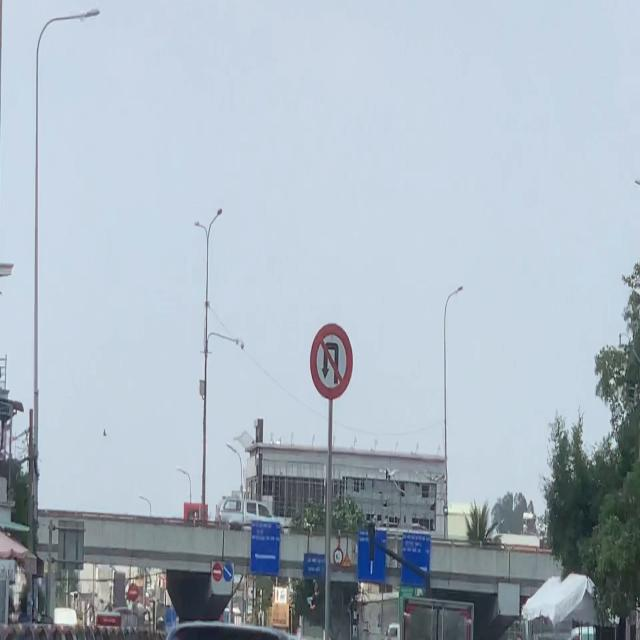Cam nguoc chieu: (212, 562, 222, 582), (127, 584, 138, 602)
Cam quay dau xe: (308, 321, 356, 406)
Chieu cao toi da: (333, 543, 343, 569)
Hieu lenh: (223, 562, 233, 582)
